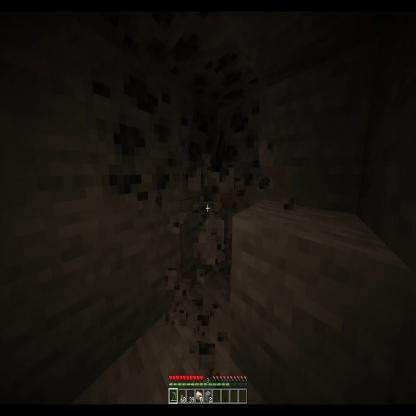coal ore: (85, 80, 181, 218), (209, 89, 270, 201)
